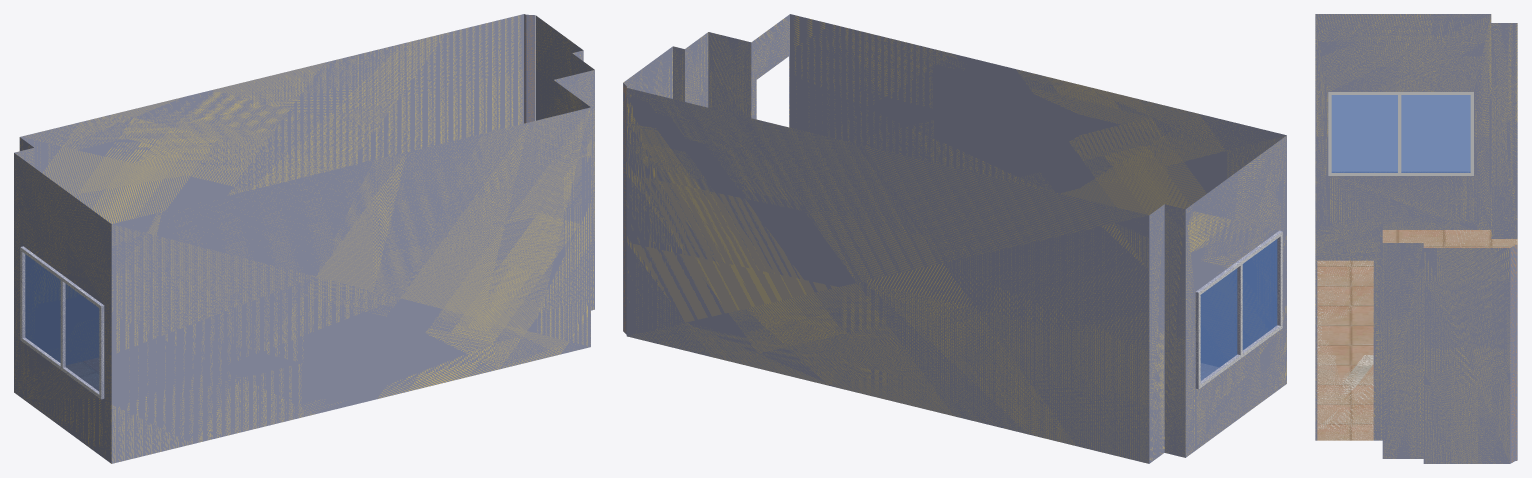
Rendered from DES043.obj.
3 views of the same model, side by side, from view 1: azimuth 30°, elevation 25°; view 2: azimuth 150°, elevation 25°; view 3: azimuth 270°, elevation 25° (orthographic). The views are drawn at different scales.
Visible parts, largest first — view 1: Mesh6 DES043 Model, Mesh1 ventana2_1 DES043 Model; view 2: Mesh6 DES043 Model, Mesh1 ventana2_1 DES043 Model; view 3: Mesh6 DES043 Model, Mesh1 ventana2_1 DES043 Model.
Boxes of the visible parts, <box> form: Mesh6 DES043 Model: <box>14,14,594,463</box>; Mesh1 ventana2_1 DES043 Model: <box>20,246,104,399</box>; Mesh6 DES043 Model: <box>623,14,1286,463</box>; Mesh1 ventana2_1 DES043 Model: <box>1195,230,1282,389</box>; Mesh6 DES043 Model: <box>1315,14,1517,463</box>; Mesh1 ventana2_1 DES043 Model: <box>1328,92,1473,175</box>.
Bounding box in the file's own units: 8.41 × 3.6 × 3.06.
9 materials, 2 textured.
